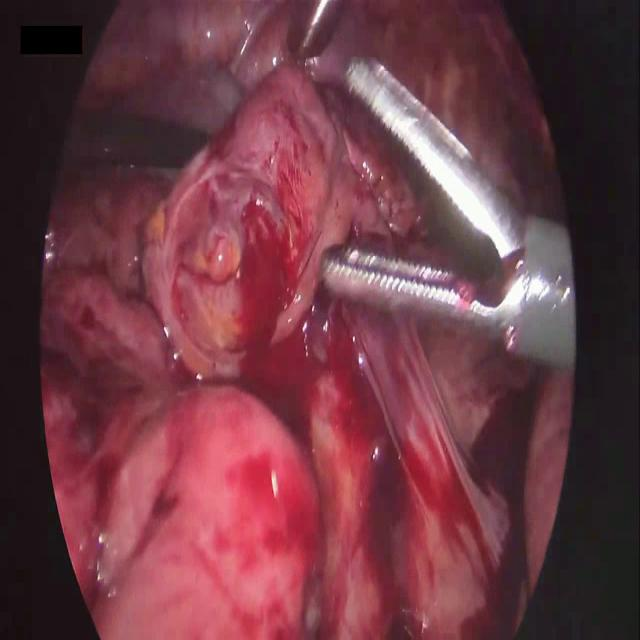surgical-area: (40, 0, 576, 639)
surgical-tool: (320, 52, 576, 372)
